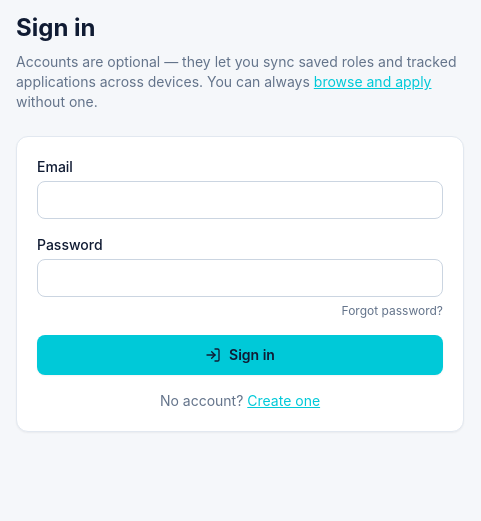
Test: SignIn page › allows requesting a password reset link
Click the button "Forgot password?".
click(392, 311)  # box [342,303,443,319]
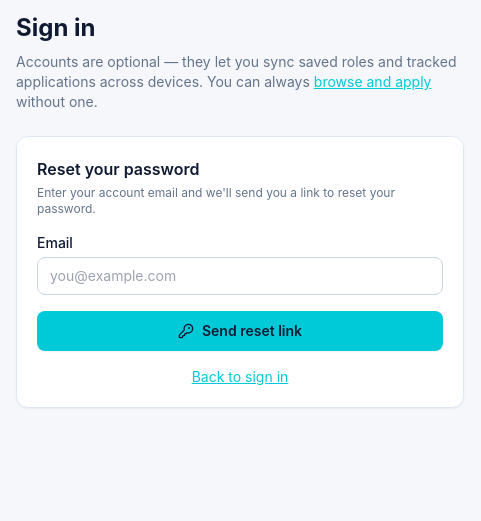
Expected: the heading "Reset your password" is shown, [37,159,200,179]
Type "reset@example.com" into the field labelled "Email".
click(240, 276); type("reset@example.com")  # box [37,257,443,295]
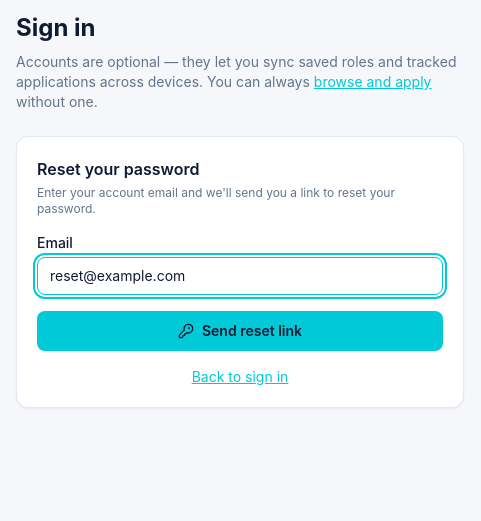
Click the button "Send reset link".
click(240, 331)  # box [37,311,443,351]
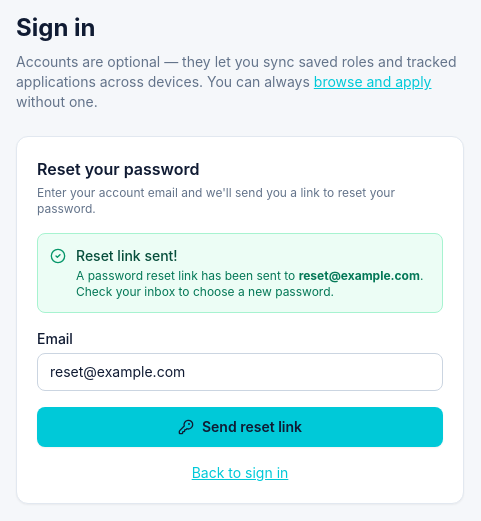
Expected: the text "Reset link sent!" is shown, [76,247,178,264]
